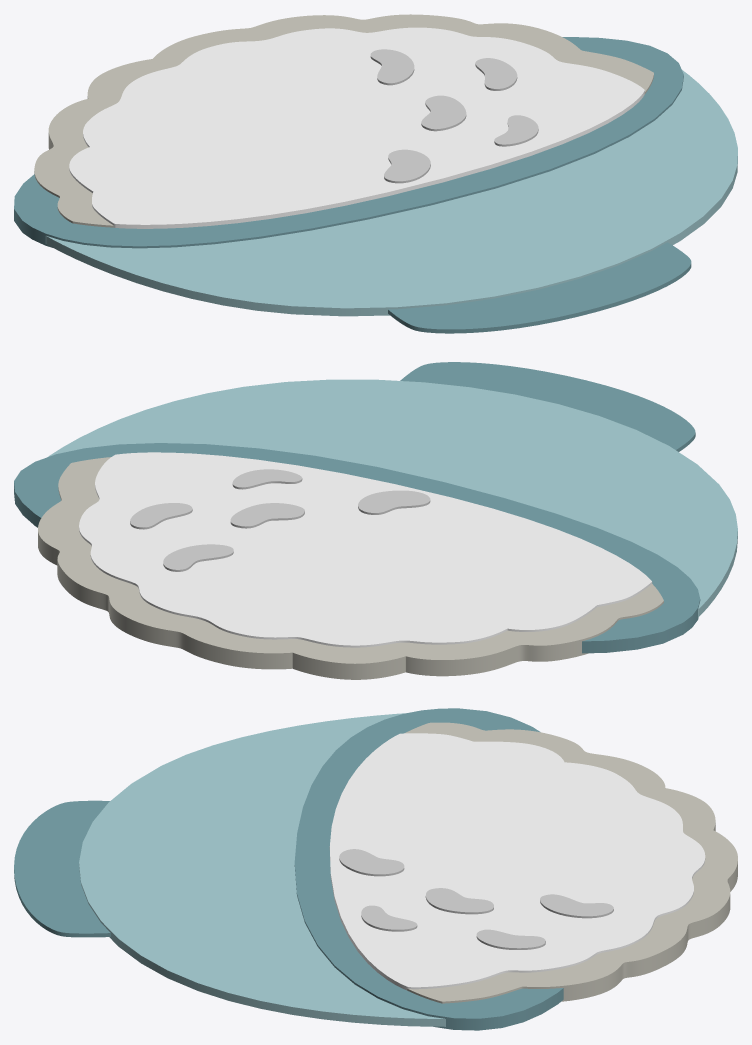
The model's file is emoji_u1f35a.glb.
The picture shows the model from 3 angles, top to bottom: view 1: azimuth 30°, elevation 25°; view 2: azimuth 150°, elevation 25°; view 3: azimuth 270°, elevation 25°; orthographic projection. The views are drawn at different scales.
Visible parts, largest first — view 1: emoji_u1f35a; view 2: emoji_u1f35a; view 3: emoji_u1f35a.
Boxes of the visible parts, x1,y1,x2,y2 form: emoji_u1f35a: [14, 14, 737, 333]; emoji_u1f35a: [14, 362, 737, 679]; emoji_u1f35a: [14, 708, 737, 1030].
Size of the model in its own units: 0.0339 by 0.0012 by 0.0334.
